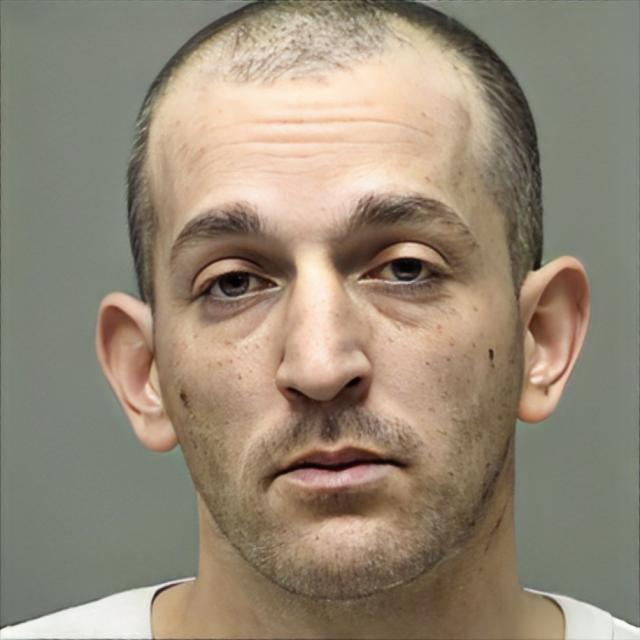neutral: (148, 85, 522, 601)
